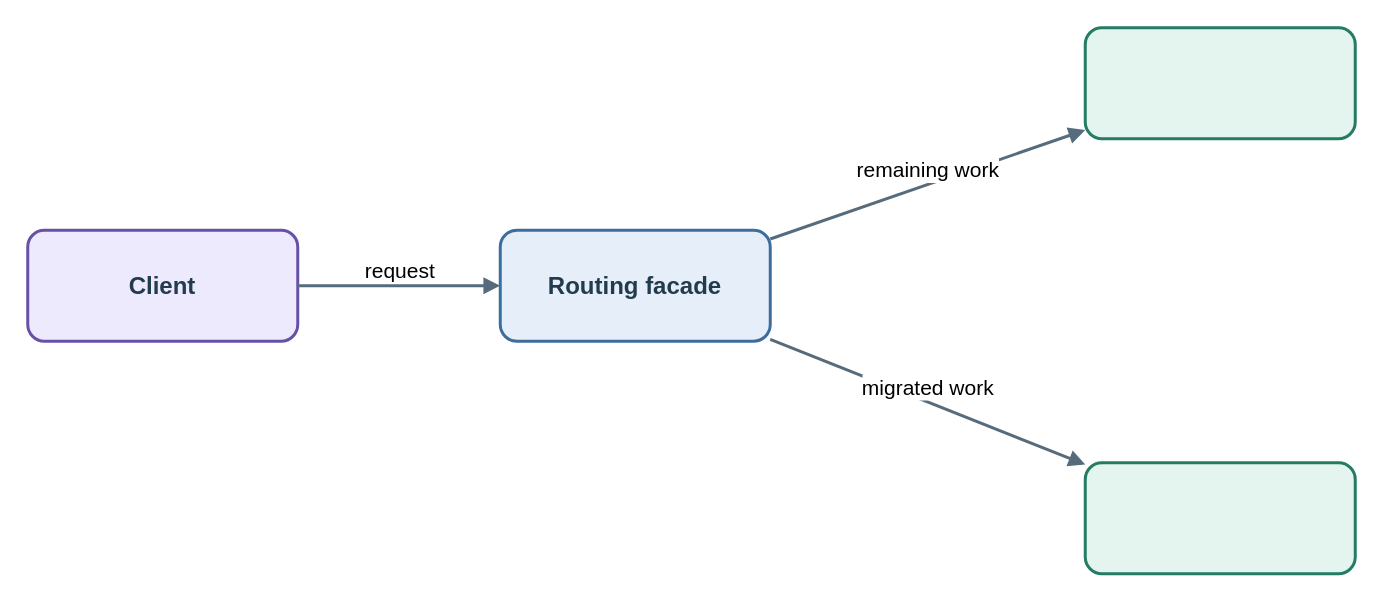
Some shapes in this 1382 by 600 pixel diagram are drawn without their labels. The shapes that lost their labels are listed below. From the top down, each one's box as (x1, y1, x2, y2) in pixels, then its label:
(1083, 26, 1356, 140): Existing system
(1083, 460, 1356, 574): New capability
